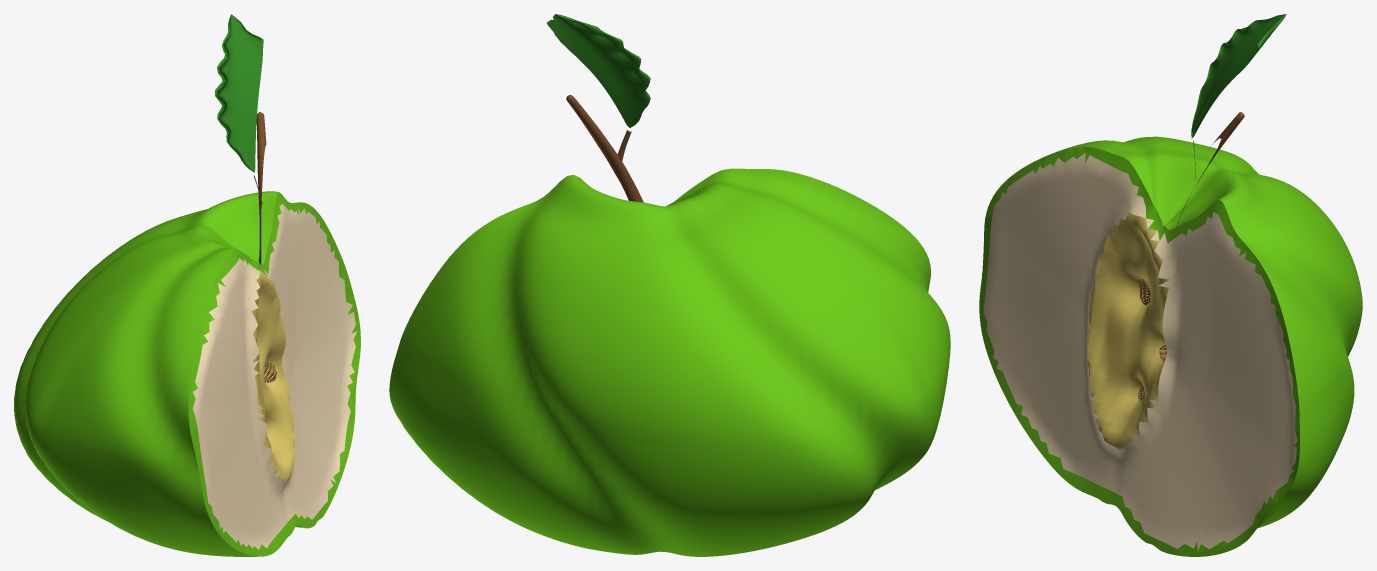
Rendered from apple_half_real.glb.
The picture shows the model from 3 angles, left to right: view 1: azimuth 30°, elevation 25°; view 2: azimuth 150°, elevation 25°; view 3: azimuth 270°, elevation 25°; orthographic projection. The views are drawn at different scales.
Parts seen in each view (by area): view 1: Skin, Flesh, Core, Leaf, Stem; view 2: Skin, Leaf, Stem; view 3: Flesh, Skin, Core, Leaf, Stem.
Part boxes in pixels (bbox=[...]): Skin: bbox=[14, 191, 360, 556]; Flesh: bbox=[193, 204, 357, 549]; Core: bbox=[251, 272, 294, 483]; Leaf: bbox=[215, 14, 263, 172]; Stem: bbox=[254, 112, 266, 264]; Skin: bbox=[389, 168, 950, 556]; Leaf: bbox=[546, 14, 650, 127]; Stem: bbox=[566, 95, 643, 202]; Flesh: bbox=[983, 153, 1297, 550]; Skin: bbox=[979, 136, 1362, 556]; Core: bbox=[1087, 212, 1169, 449]; Leaf: bbox=[1191, 14, 1286, 138]; Stem: bbox=[1176, 112, 1244, 227].
Size of the model in its own units: 1.93 by 2.24 by 1.5.
